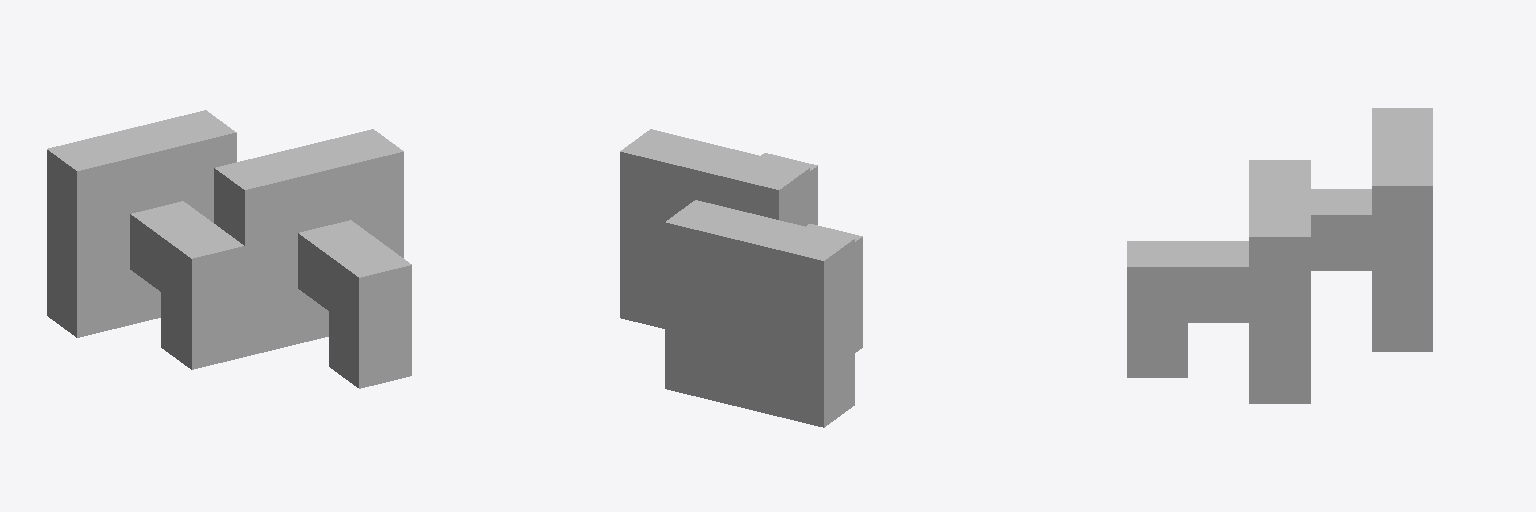
File: brownMushroomsWall2-0.obj
3 renders of one model, left to right at view 1: azimuth 30°, elevation 25°; view 2: azimuth 150°, elevation 25°; view 3: azimuth 270°, elevation 25°, orthographic.
Visible parts, largest first — view 1: object 1; view 2: object 1; view 3: object 1.
Boxes of the visible parts, <box> form: object 1: <box>47,110,411,388</box>; object 1: <box>620,129,862,427</box>; object 1: <box>1127,108,1432,403</box>.
Bounding box in the file's own units: 0.5 × 0.3 × 0.5.